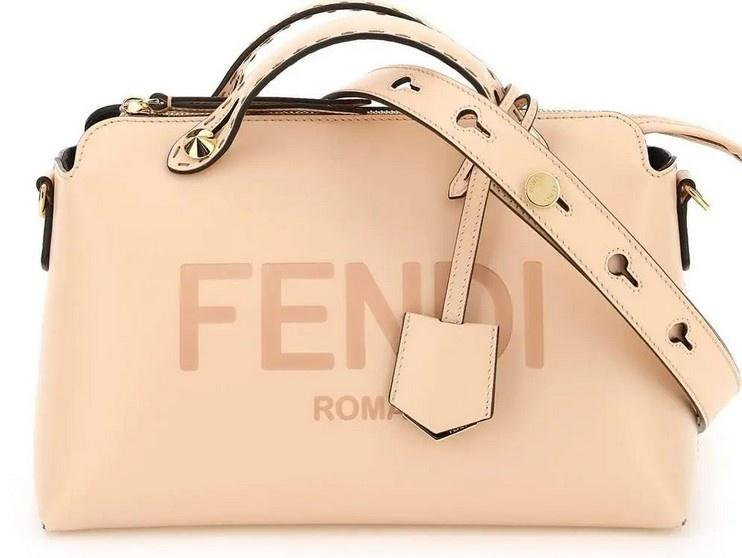FENDI: (178, 260, 546, 370)
